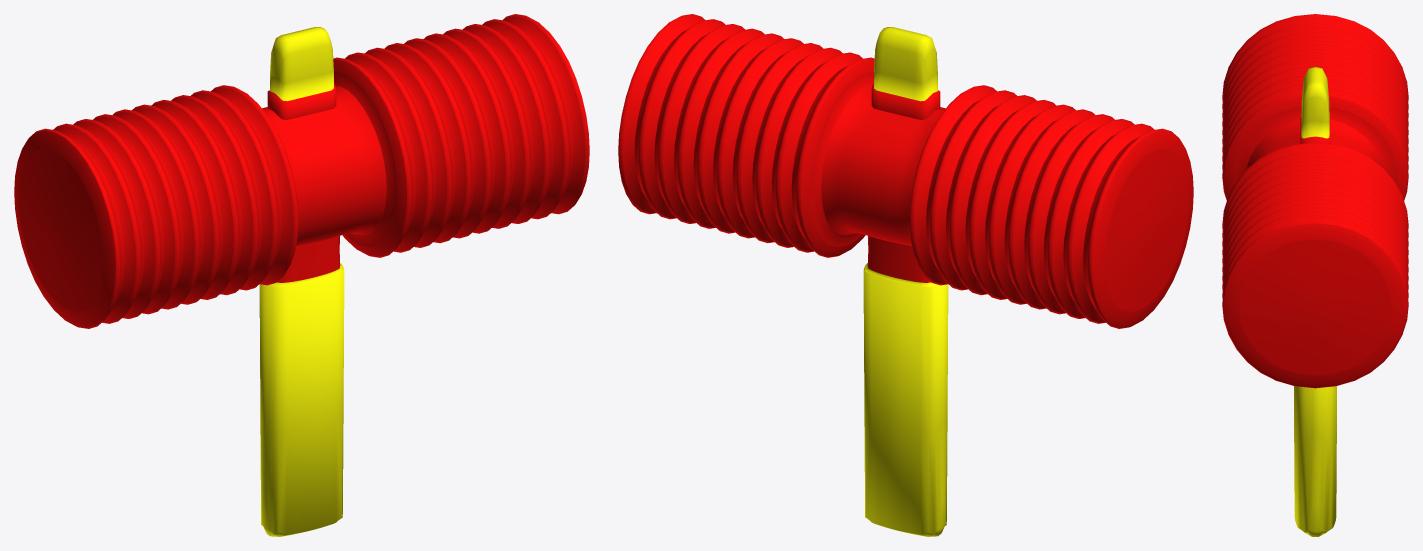
Rendered from mallet.fbx.
The picture shows the model from 3 angles, left to right: view 1: azimuth 30°, elevation 25°; view 2: azimuth 150°, elevation 25°; view 3: azimuth 270°, elevation 25°; orthographic projection. The views are drawn at different scales.
Visible parts, largest first — view 1: Cube; view 2: Cube; view 3: Cube.
Boxes of the visible parts, x1,y1,x2,y2 form: Cube: (14, 14, 589, 536); Cube: (618, 14, 1193, 536); Cube: (1222, 14, 1408, 536).
Size of the model in its own units: 1684 by 1625 by 615.
